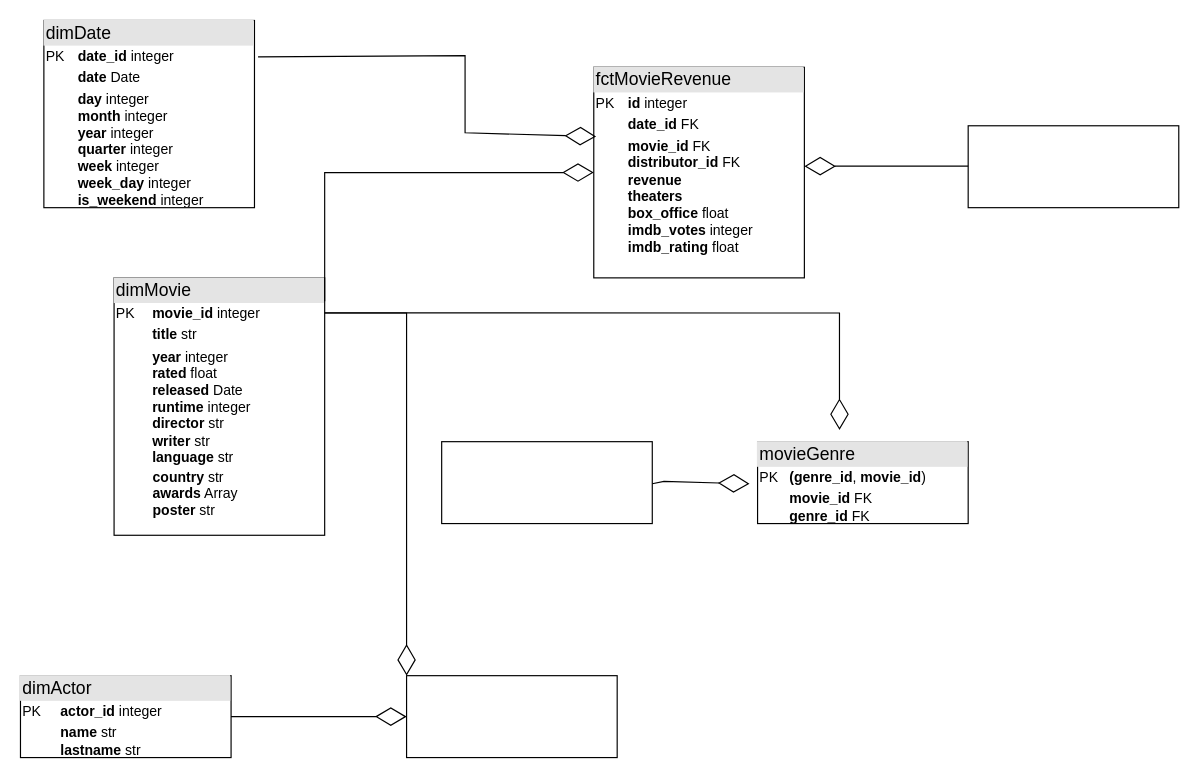
The diagram is 1199 pixels wide and 778 high, and some of its shapes have lost their labels. Each missing label, with the centre of its shape:
"dimDistributor PK distributor_id name str" goes at point (1073, 166).
"dimGenre PK genre_id integer name str, unique" goes at point (546, 482).
"movieActor PK (actor_id , movie_id ) movie_id FK actor_id FK" goes at point (511, 716).
